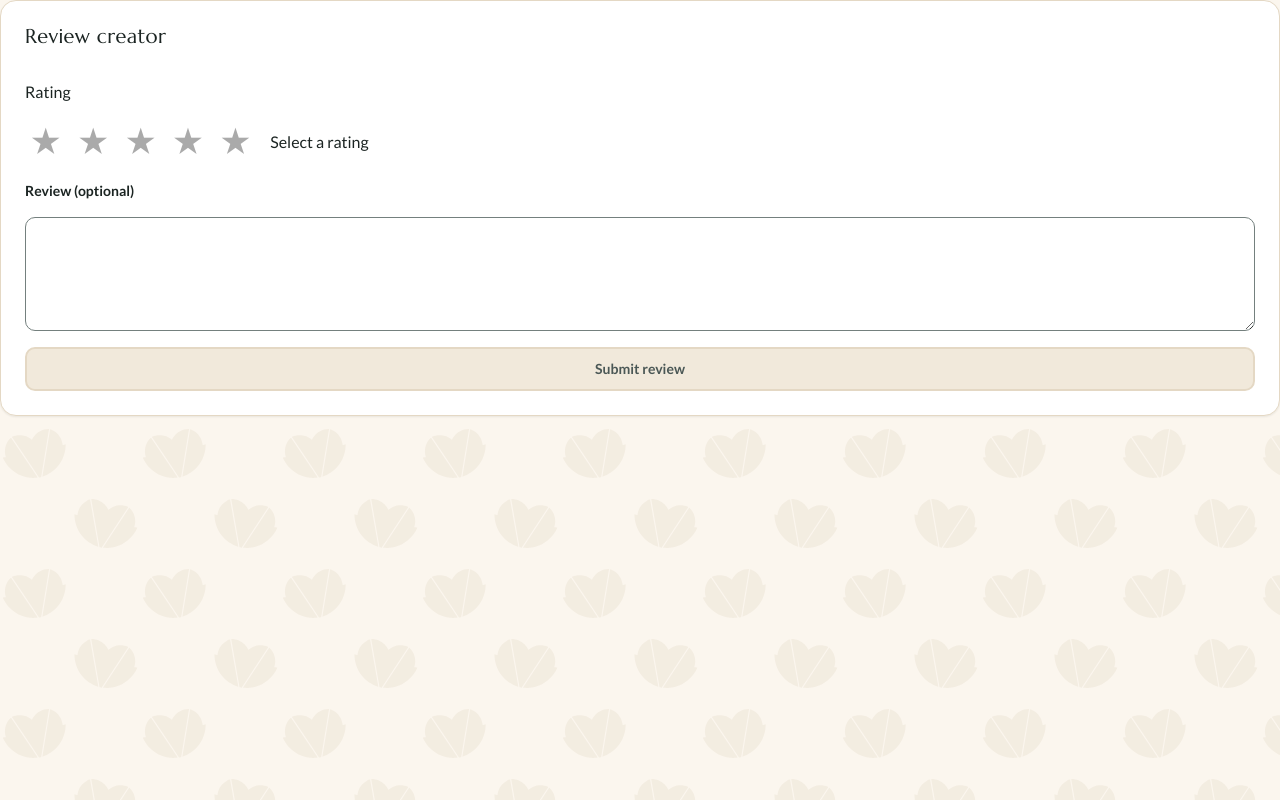
Test: keeps the form after other conflicts
What coordinates should you click on to do the following:
click the button named "Rate 4 stars"
I would click on:
 (188, 142)
Its box is [167,120,209,164].
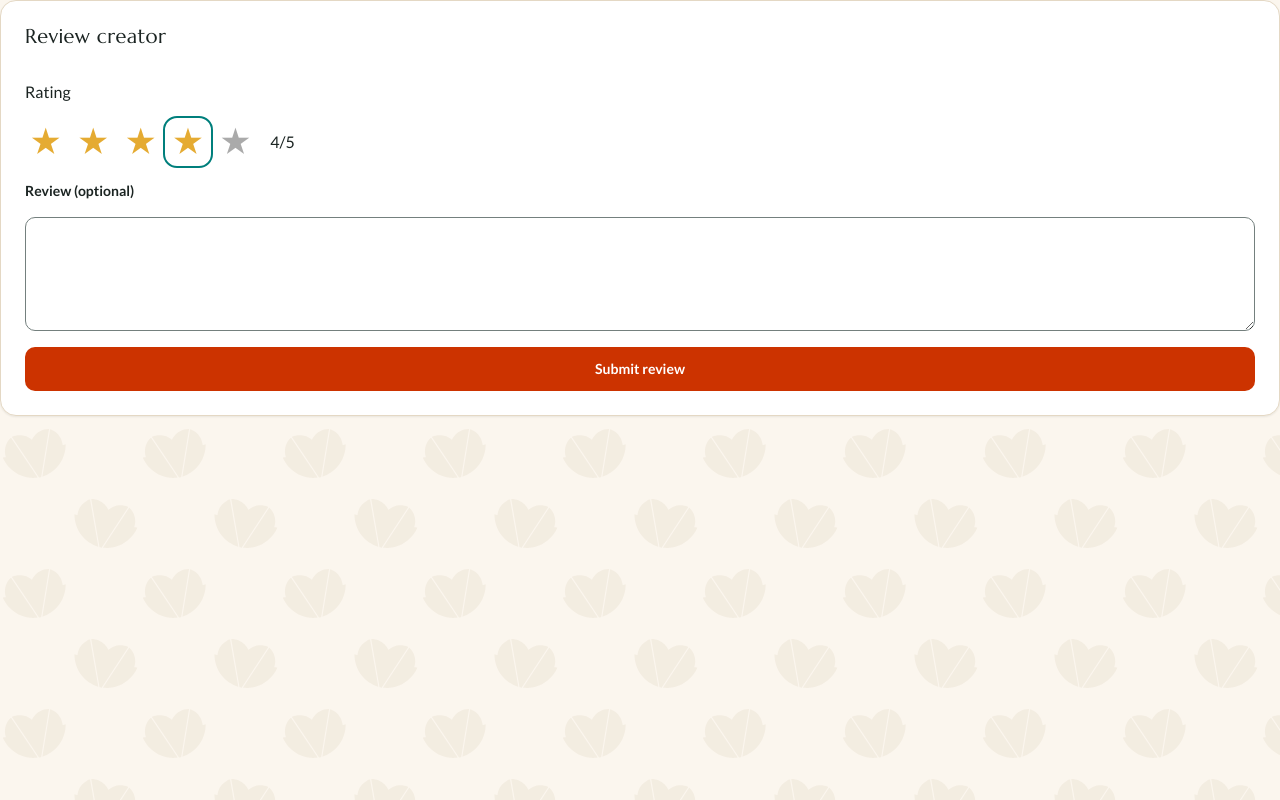
What coordinates should you click on to do the following:
click the button "Submit review"
I would click on:
 (640, 369)
Its box is [25,347,1255,391].
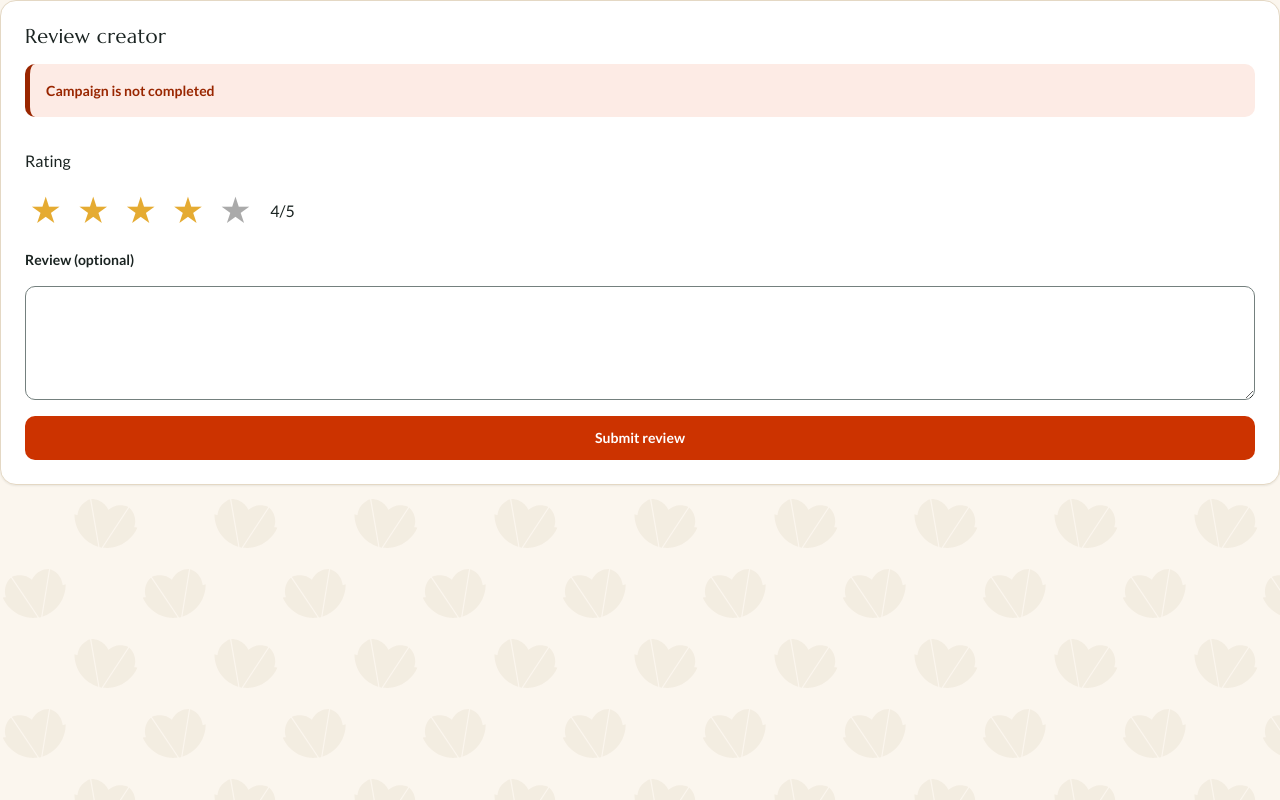
Check: the button "Submit review" is shown, box [25,416,1255,460]
Check: the message reads "Campaign is not completed", box [46,82,215,99]
